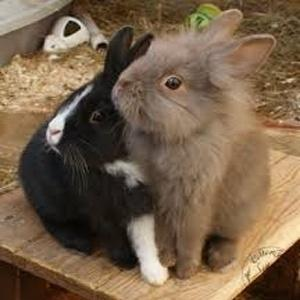rabbit: (19, 9, 275, 284)
